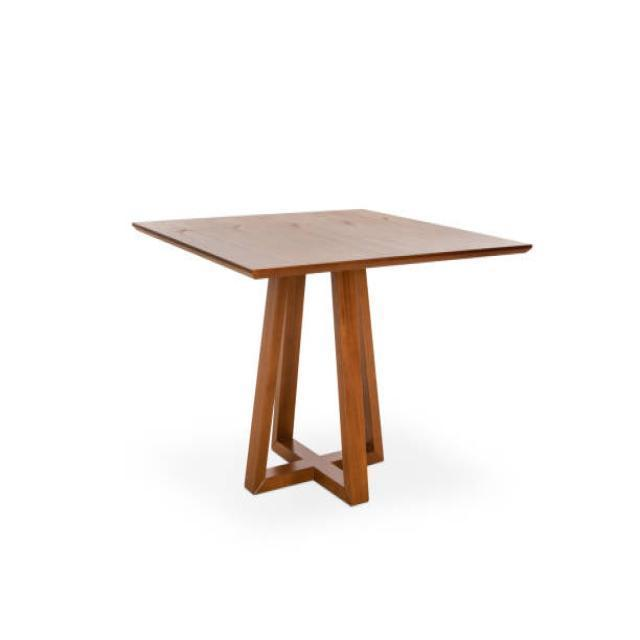table: (130, 207, 532, 506)
